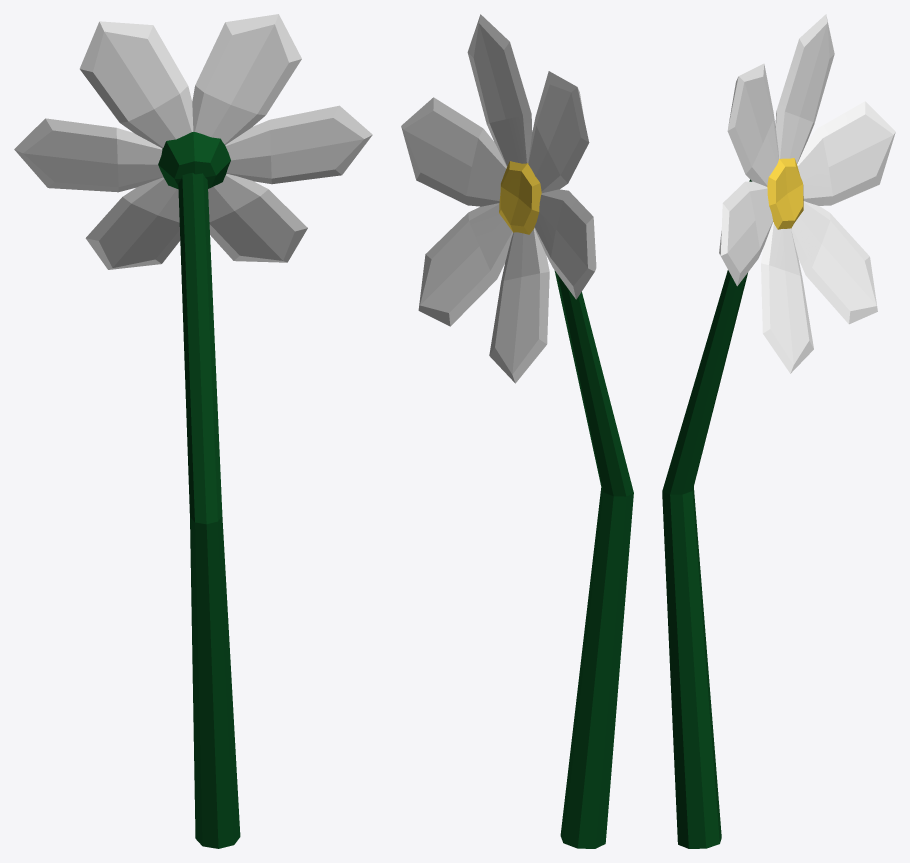
File: Flower_Kitchen_Flower2_231109.glb
The picture shows the model from 3 angles, left to right: view 1: azimuth 30°, elevation 25°; view 2: azimuth 150°, elevation 25°; view 3: azimuth 270°, elevation 25°; orthographic projection. The views are drawn at different scales.
Visible parts, largest first — view 1: Kitchen_Flower2; view 2: Kitchen_Flower2; view 3: Kitchen_Flower2.
Boxes of the visible parts, x1=… form: Kitchen_Flower2: x1=14, y1=14, x2=372, y2=848; Kitchen_Flower2: x1=401, y1=14, x2=633, y2=848; Kitchen_Flower2: x1=662, y1=14, x2=895, y2=848.
Bounding box in the file's own units: 0.1925 × 0.5341 × 0.1403.
1 material, 1 textured.
